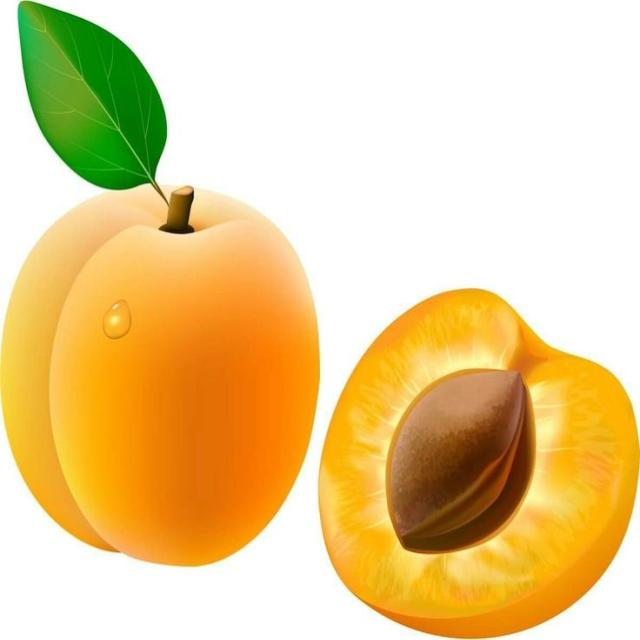Cekirdek: (387, 369, 528, 551)
Kayisi: (0, 185, 319, 564), (318, 289, 639, 636)
Yaprak: (19, 0, 166, 188)
